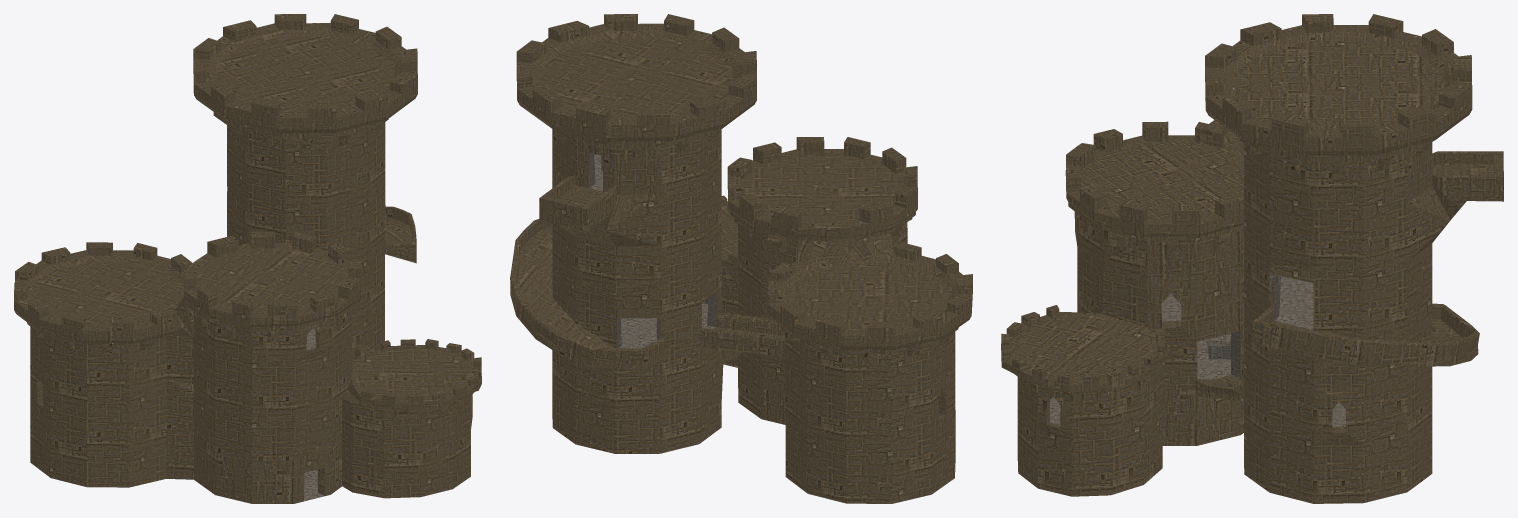
Rendered from realFort.glb.
3 renders of one model, left to right at view 1: azimuth 30°, elevation 25°; view 2: azimuth 150°, elevation 25°; view 3: azimuth 270°, elevation 25°, orthographic. The views are drawn at different scales.
Visible parts, largest first — view 1: fort; view 2: fort; view 3: fort.
Boxes of the visible parts, bbox=[...] form: fort: bbox=[14, 14, 481, 503]; fort: bbox=[510, 14, 972, 503]; fort: bbox=[1001, 14, 1503, 503].
Bounding box in the file's own units: 107 × 87.14 × 99.64.
9 materials, 8 textured.
